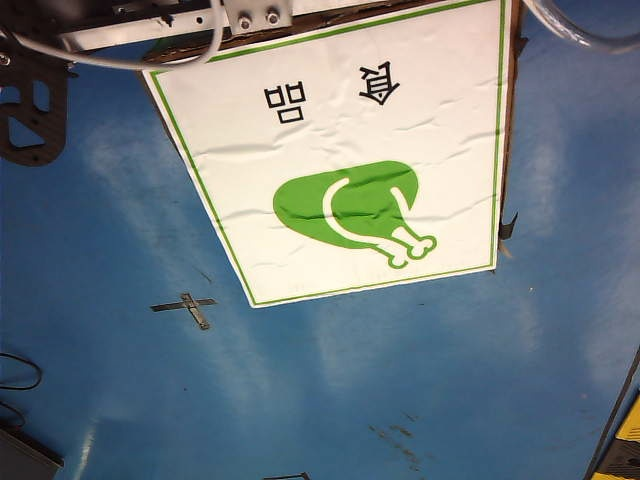Cube_food: (222, 45, 492, 292)
